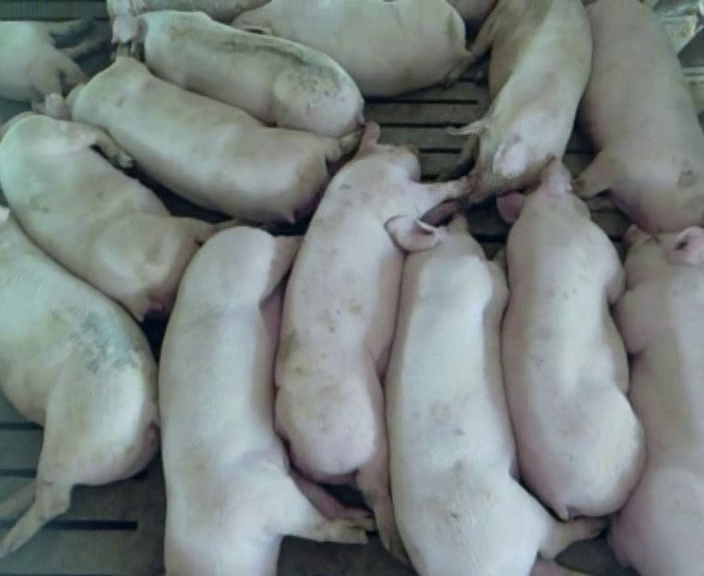pig: (275, 123, 465, 557), (386, 217, 602, 575), (159, 227, 371, 573), (31, 42, 359, 222), (496, 160, 643, 517), (610, 227, 703, 573), (111, 10, 363, 136), (577, 3, 703, 231), (455, 2, 590, 202), (233, 2, 469, 95), (0, 19, 102, 103)
